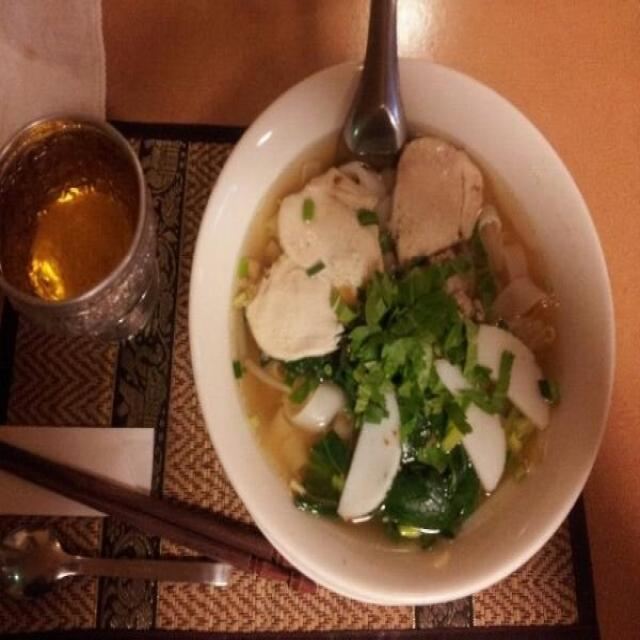面条主食: (183, 54, 614, 599)
